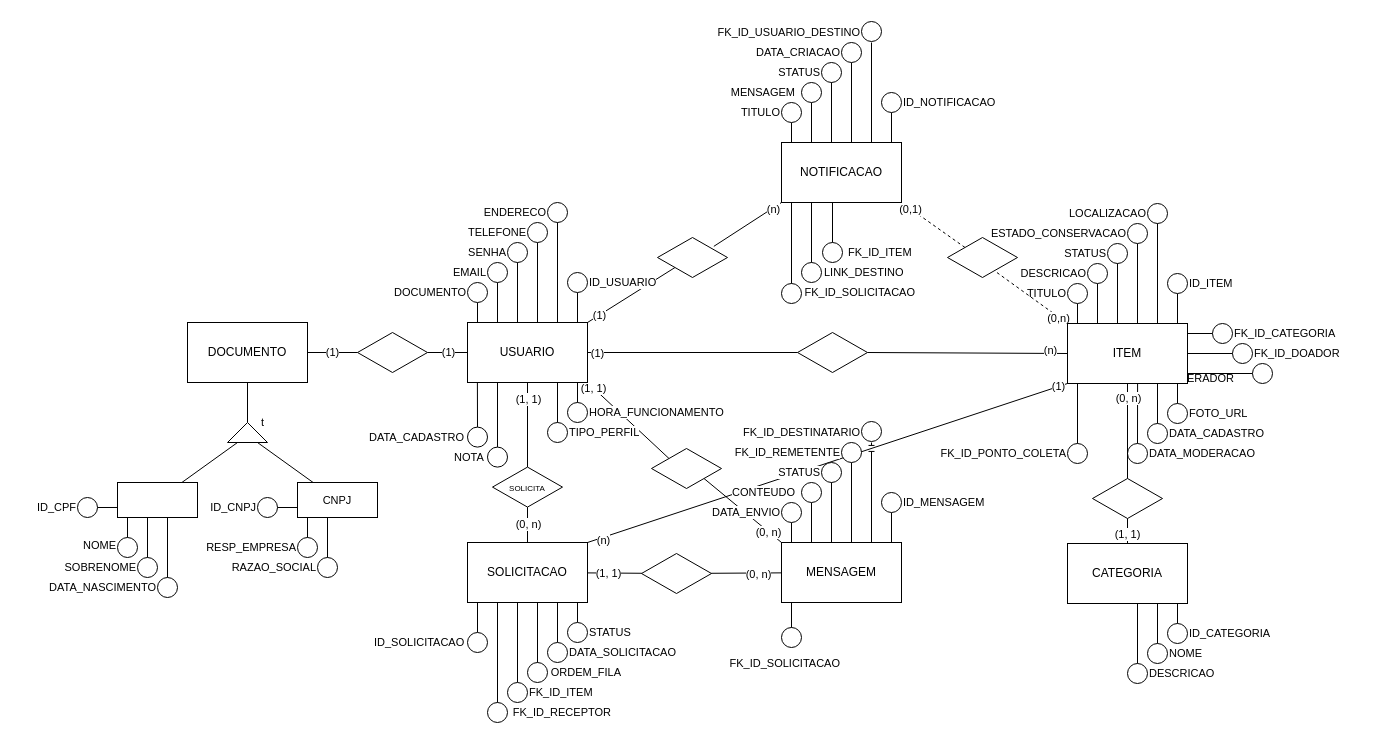
The diagram is 1379 pixels wide and 744 high, and some of its shapes have lost their labels. The shapes that lost their labels are listed below. From the top down, each one's centre as x and y in pixels, then its label:
At pixel 692 257: "RECEB E".
At pixel 392 352: "IDENTIFICA".
At pixel 157 500: "CPF".
At pixel 1127 498: "CATEGORIZA".
